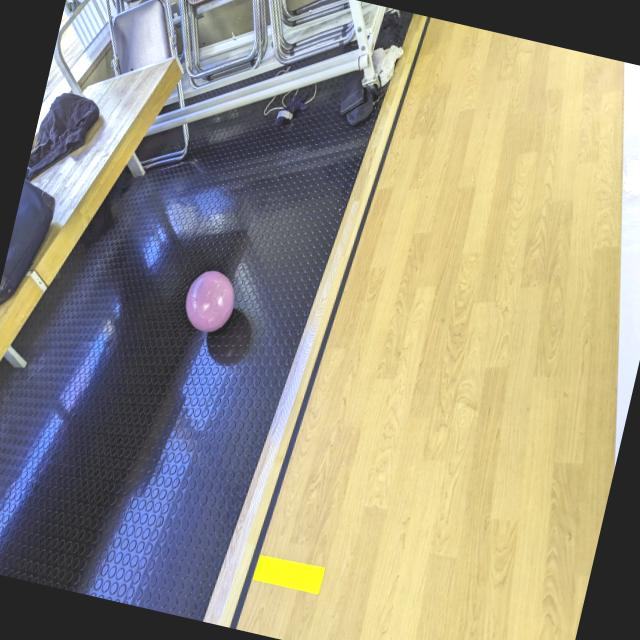purple_ball: (179, 266, 240, 338)
